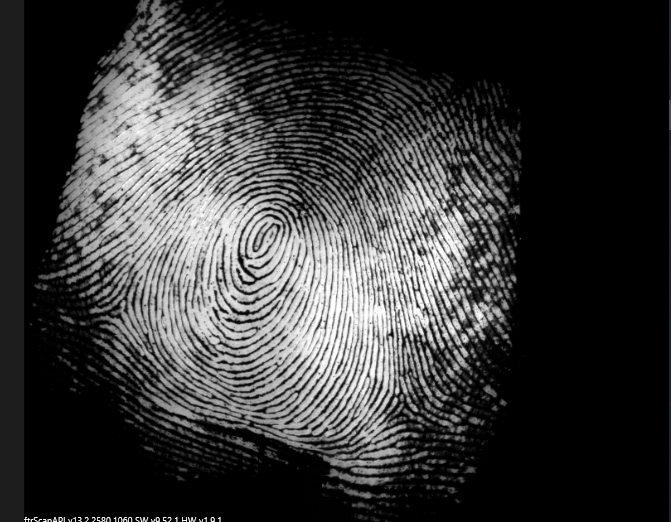deltas: (86, 273, 151, 339), (371, 378, 428, 436)
nucleo: (230, 201, 296, 281)
